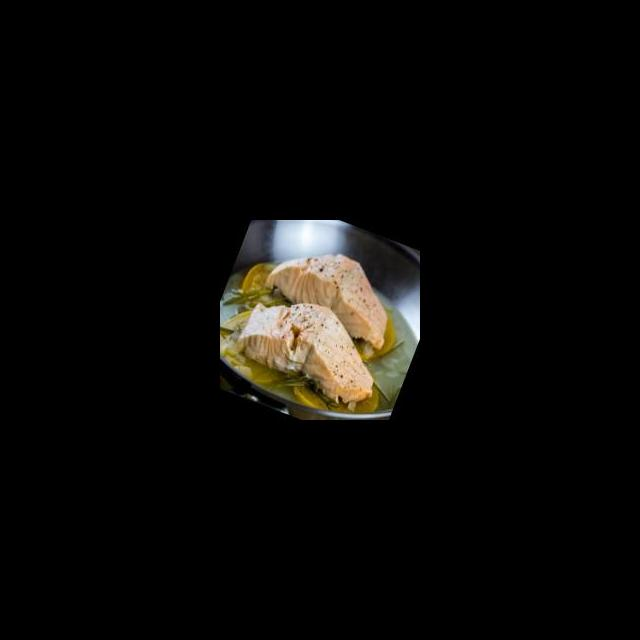ca hoi: (228, 276, 398, 416), (255, 230, 410, 356)
